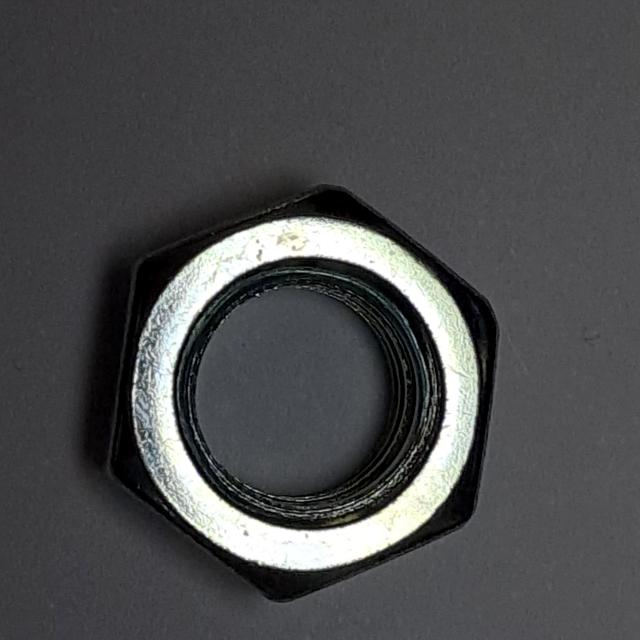Excellent: (90, 171, 507, 615)
